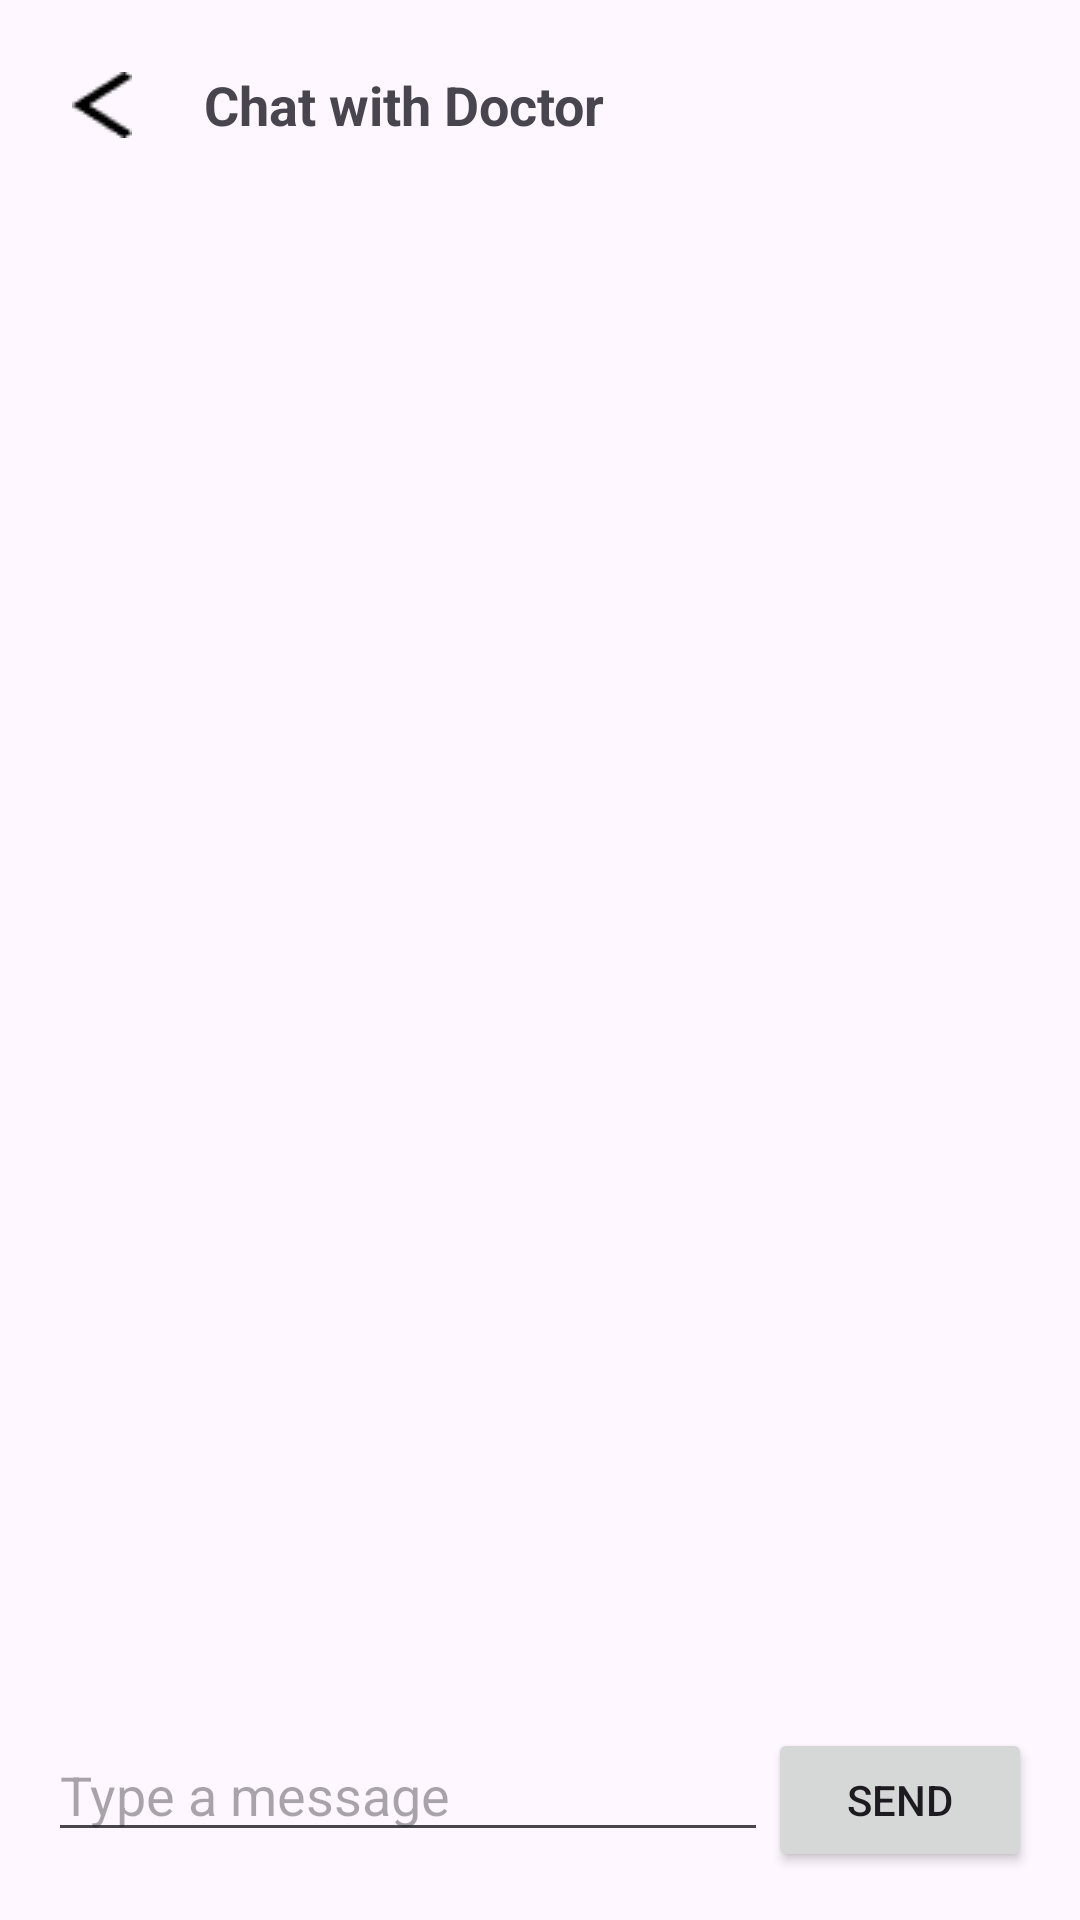

Named icons in this screenshot (1080px x 1920px) and their centers, (x,y):
Back: (102,105)
